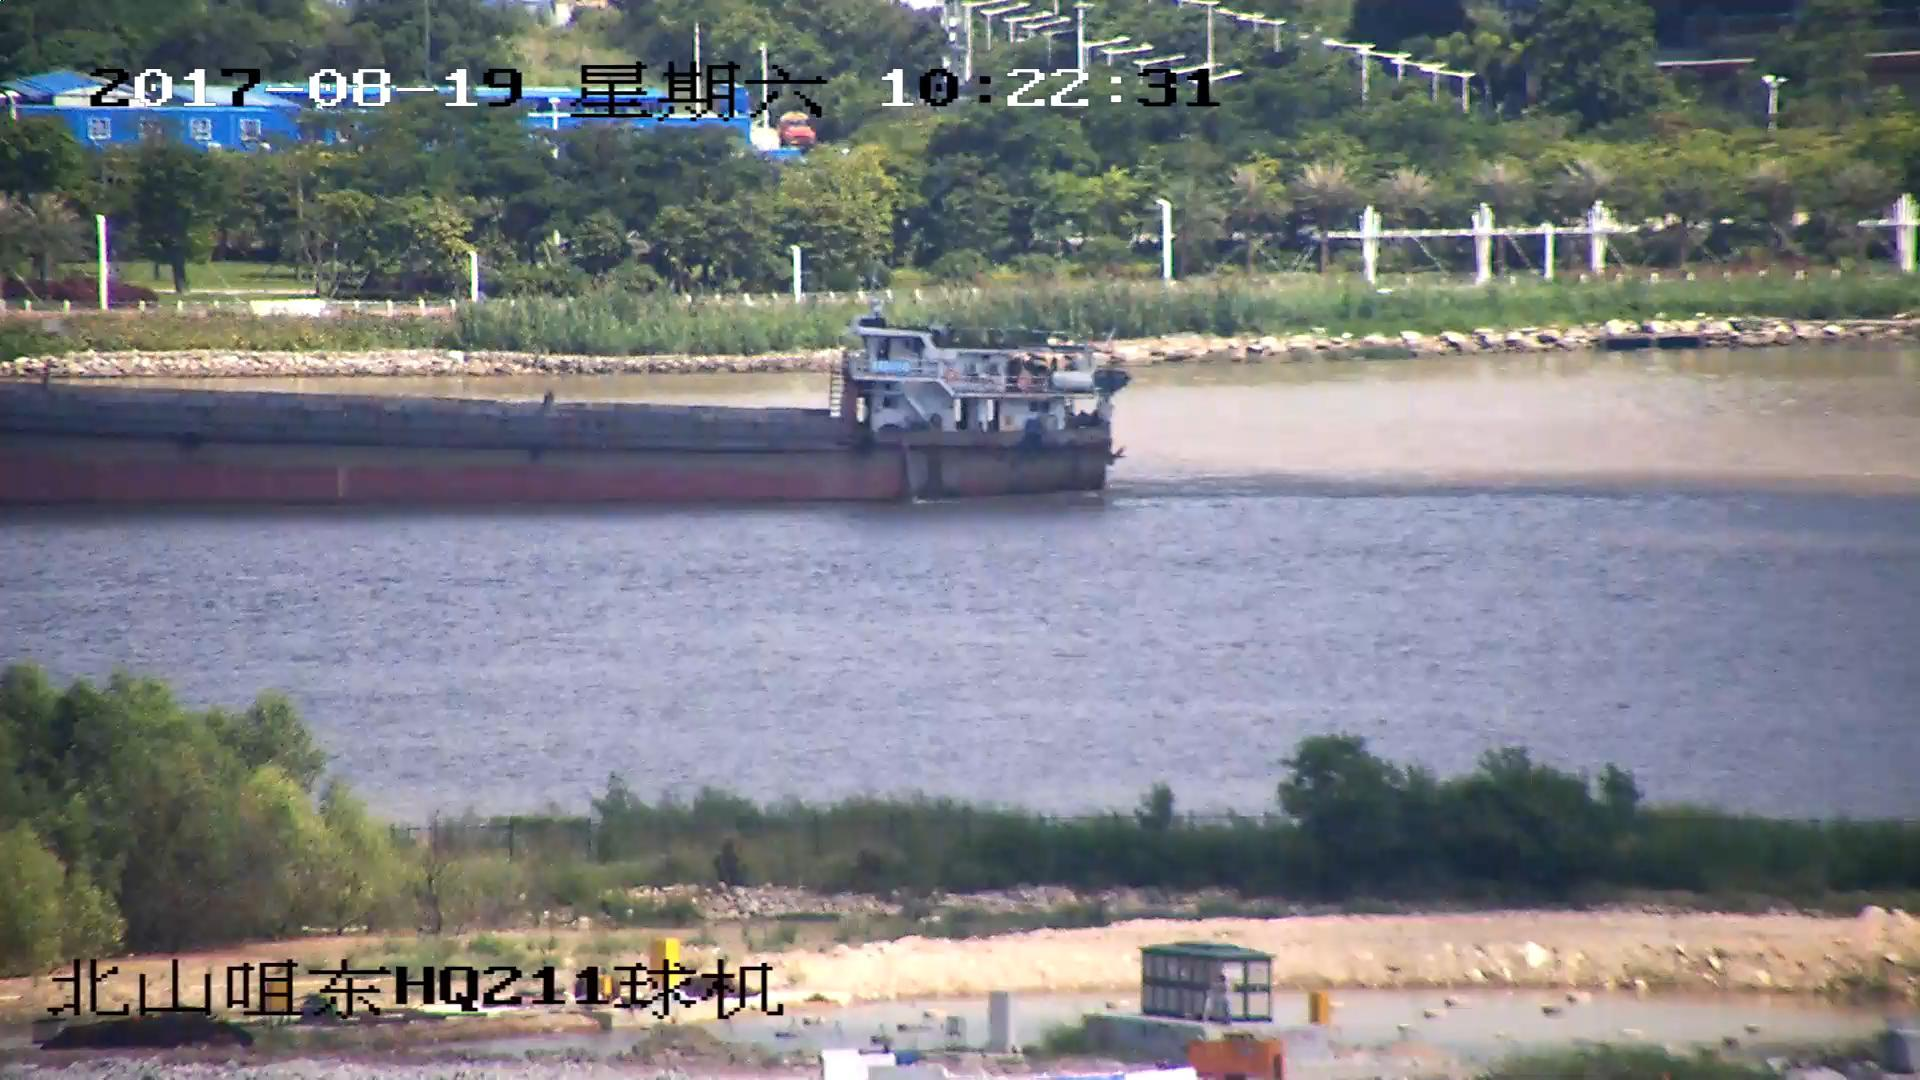Ship: (3, 309, 1131, 505)
